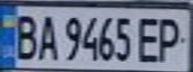4: (78, 12, 100, 62)
5: (115, 12, 139, 62)
6: (97, 12, 118, 62)
9: (60, 11, 84, 62)
A: (33, 10, 60, 61)
B: (9, 10, 39, 61)
E: (133, 12, 163, 63)
P: (154, 13, 187, 64)
